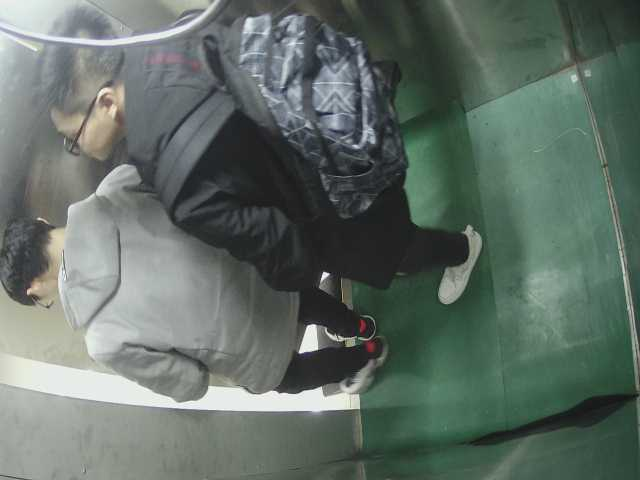bag: (221, 6, 419, 217)
person: (31, 3, 484, 300), (4, 203, 392, 400)
